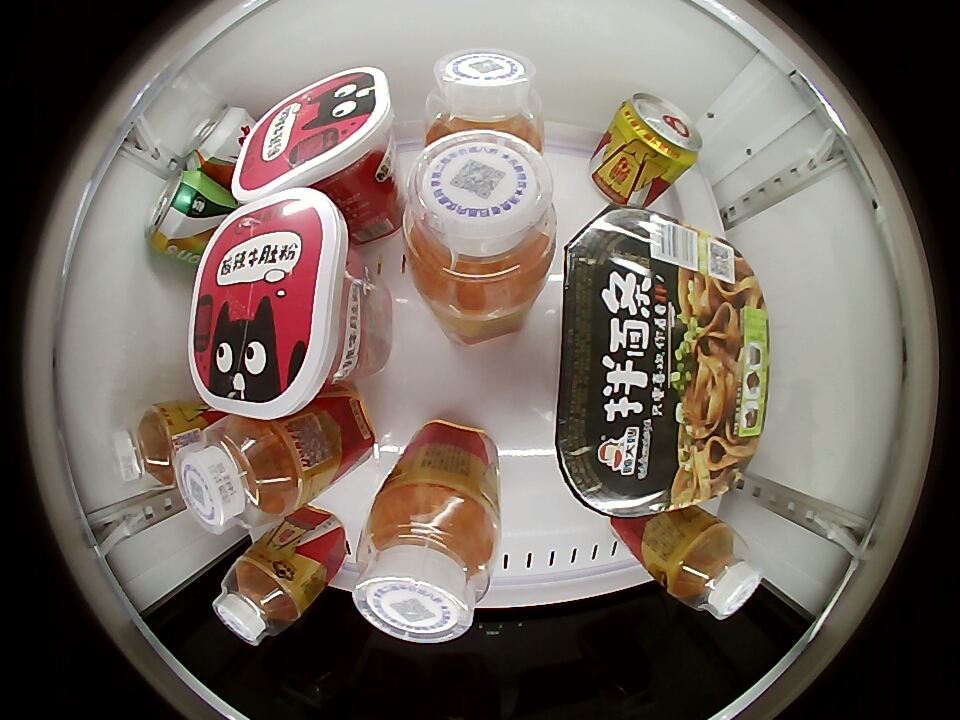dongpeng: (615, 93, 702, 169)
dongpeng-b: (402, 129, 557, 310), (354, 483, 499, 643), (175, 413, 313, 531), (426, 49, 544, 149), (660, 517, 763, 620), (212, 554, 307, 646), (111, 405, 184, 487)
gudasao: (555, 207, 771, 520)
jianlibao: (183, 104, 250, 174)
niudufen: (189, 188, 364, 421), (231, 68, 394, 201)
quchenshixiangcao: (145, 168, 207, 256)
